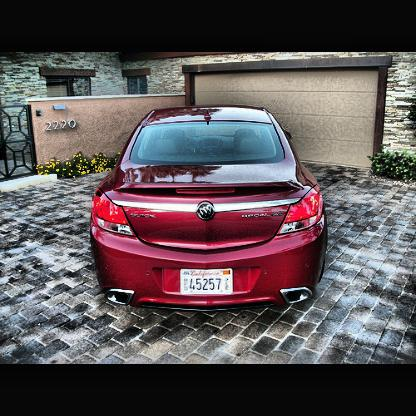Buick Regal GS 2012: (93, 109, 327, 309)
